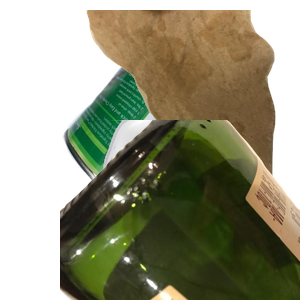glass: (60, 120, 300, 300)
metal: (60, 23, 300, 203)
plastic: (60, 120, 300, 300)
trash: (84, 10, 300, 190)
